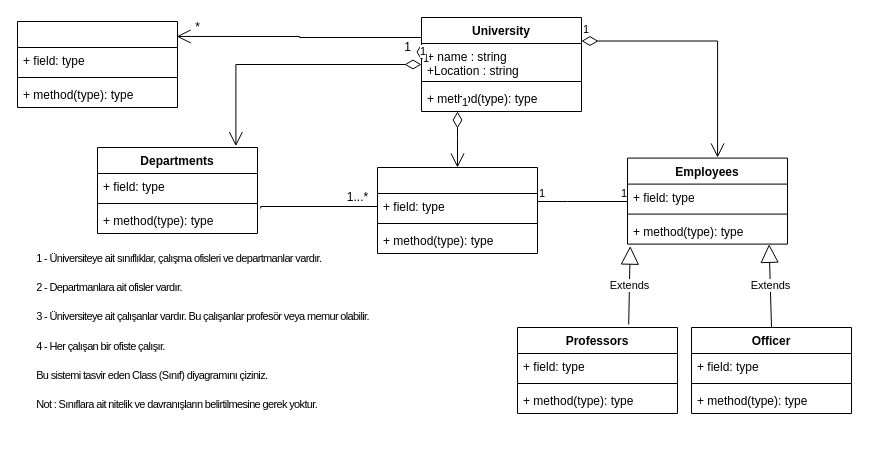
Image size: 869x452. Some labels were removed from this diagram. The box of each missing label's shape, as (x1, y1, x2, y2) in pixels:
Classrooms: (16, 20, 178, 108)
Offices: (376, 166, 538, 254)
